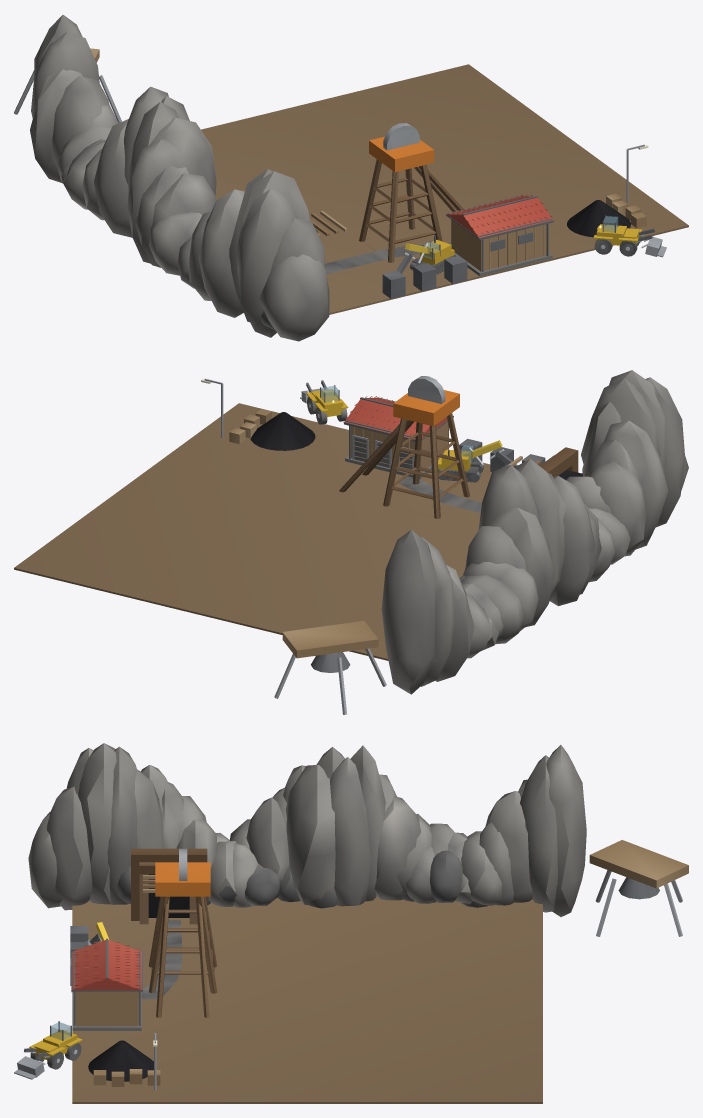
The model's file is Mine_P1.fbx.
3 renders of one model, top to bottom at view 1: azimuth 30°, elevation 25°; view 2: azimuth 150°, elevation 25°; view 3: azimuth 270°, elevation 25°, orthographic. The views are drawn at different scales.
Parts seen in each view (by area): view 1: Mine.Apron, Mine.Cliff, Mine.Winder, Mine.Headframe, Mine.Clutter, Mine.Loader, Mine.Spoil0, Mine.Excav, Mine.Track0, Mine.LoadGantry; view 2: Mine.Apron, Mine.Cliff, Mine.Headframe, Mine.Winder, Mine.LoadGantry, Mine.Spoil0, Mine.Clutter, Mine.Excav, Mine.Loader, Mine.Adit0, Mine.Track0; view 3: Mine.Apron, Mine.Cliff, Mine.Winder, Mine.Headframe, Mine.LoadGantry, Mine.Adit0, Mine.Loader, Mine.Spoil0, Mine.Clutter, Mine.Track0.
Boxes of the visible parts, box(x1,y1,x2,y2) form: Mine.Apron: box(201, 64, 688, 314); Mine.Cliff: box(30, 15, 329, 341); Mine.Winder: box(446, 194, 553, 276); Mine.Headframe: box(359, 123, 463, 262); Mine.Clutter: box(382, 193, 646, 298); Mine.Loader: box(593, 215, 666, 257); Mine.Spoil0: box(567, 200, 630, 237); Mine.Excav: box(396, 235, 454, 274); Mine.Track0: box(325, 242, 450, 274); Mine.LoadGantry: box(14, 48, 121, 123); Mine.Apron: box(14, 403, 491, 660); Mine.Cliff: box(381, 370, 688, 694); Mine.Headframe: box(339, 376, 469, 518); Mine.Winder: box(343, 396, 453, 478); Mine.LoadGantry: box(274, 621, 386, 714); Mine.Spoil0: box(250, 412, 315, 450); Mine.Clutter: box(229, 409, 545, 472); Mine.Excav: box(438, 440, 517, 482); Mine.Loader: box(300, 380, 348, 424); Mine.Adit0: box(510, 447, 583, 479); Mine.Track0: box(398, 476, 481, 512); Mine.Apron: box(72, 896, 542, 1103); Mine.Cliff: box(28, 743, 586, 916); Mine.Winder: box(71, 938, 142, 1030); Mine.Headframe: box(148, 848, 217, 1017); Mine.LoadGantry: box(589, 840, 688, 936); Mine.Adit0: box(131, 848, 207, 924); Mine.Loader: box(14, 1021, 82, 1079); Mine.Spoil0: box(88, 1040, 153, 1081); Mine.Clutter: box(70, 926, 160, 1086); Mine.Track0: box(141, 920, 182, 999).
Bounding box in the file's own units: 8066 × 2772 × 9750.
